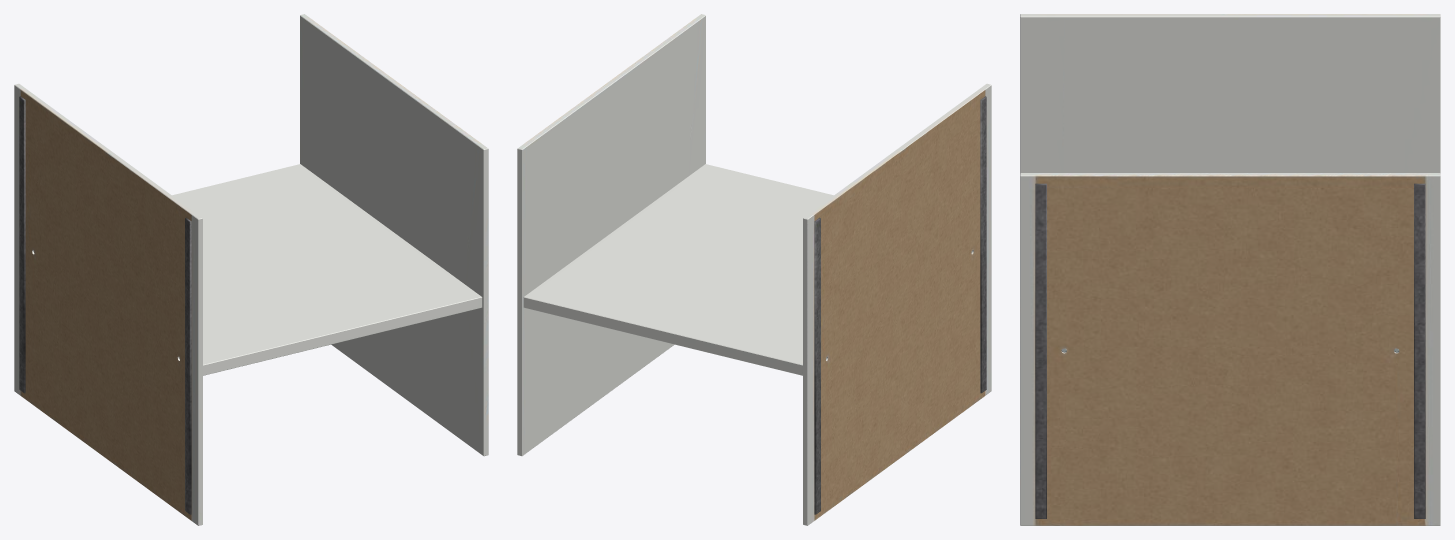
File: kallax_wkad_z_1_poka_20423720.glb
3 renders of one model, left to right at view 1: azimuth 30°, elevation 25°; view 2: azimuth 150°, elevation 25°; view 3: azimuth 270°, elevation 25°, orthographic. The views are drawn at different scales.
Parts seen in each view (by area): view 1: kallax_wkad_z_1_poka_20423720; view 2: kallax_wkad_z_1_poka_20423720; view 3: kallax_wkad_z_1_poka_20423720.
Boxes of the visible parts, <box> form: kallax_wkad_z_1_poka_20423720: <box>14,14,488,525</box>; kallax_wkad_z_1_poka_20423720: <box>517,14,991,525</box>; kallax_wkad_z_1_poka_20423720: <box>1020,14,1440,525</box>.
Bounding box in the file's own units: 0.336 × 0.335 × 0.364.
Materials: 1 (1 with a texture image).
